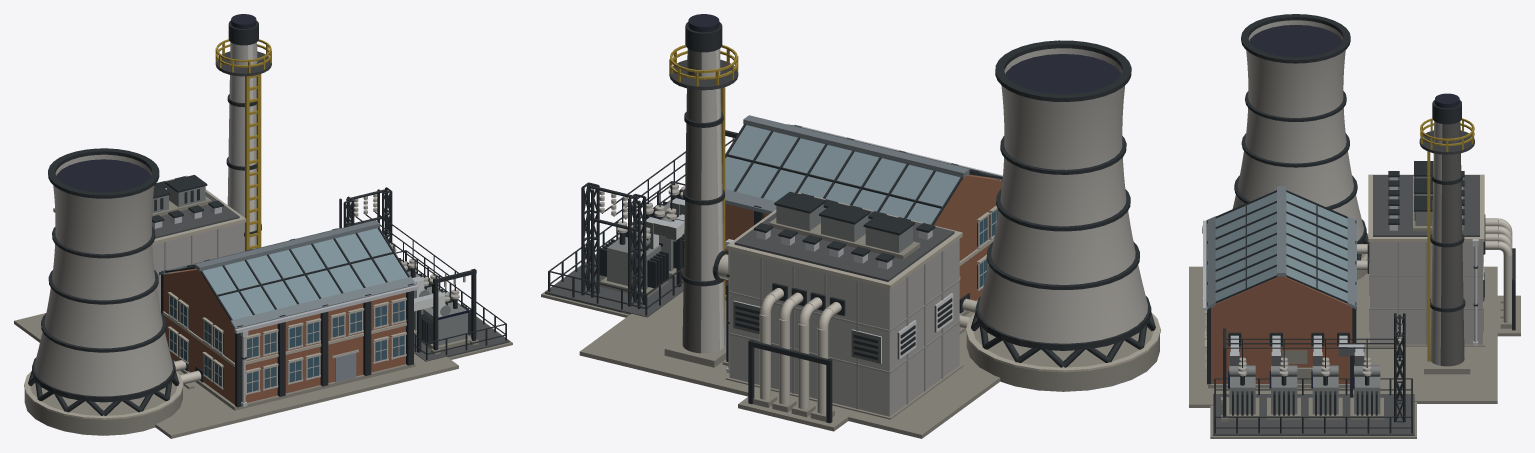
The model's file is power_plant_lvl2.glb.
3 views of the same model, side by side, from view 1: azimuth 30°, elevation 25°; view 2: azimuth 150°, elevation 25°; view 3: azimuth 270°, elevation 25° (orthographic). The views are drawn at different scales.
Parts seen in each view (by area): view 1: power_plant_v2, power_plant_v2_Glass; view 2: power_plant_v2, power_plant_v2_Glass; view 3: power_plant_v2, power_plant_v2_Glass.
Boxes of the visible parts, box(x1,y1,x2,y2) form: power_plant_v2: box(14, 14, 512, 438); power_plant_v2_Glass: box(166, 228, 407, 392); power_plant_v2: box(541, 14, 1160, 438); power_plant_v2_Glass: box(725, 125, 1002, 287); power_plant_v2: box(1189, 14, 1520, 438); power_plant_v2_Glass: box(1215, 192, 1347, 303).
Size of the model in its own units: 1 by 0.6017 by 0.6727.
